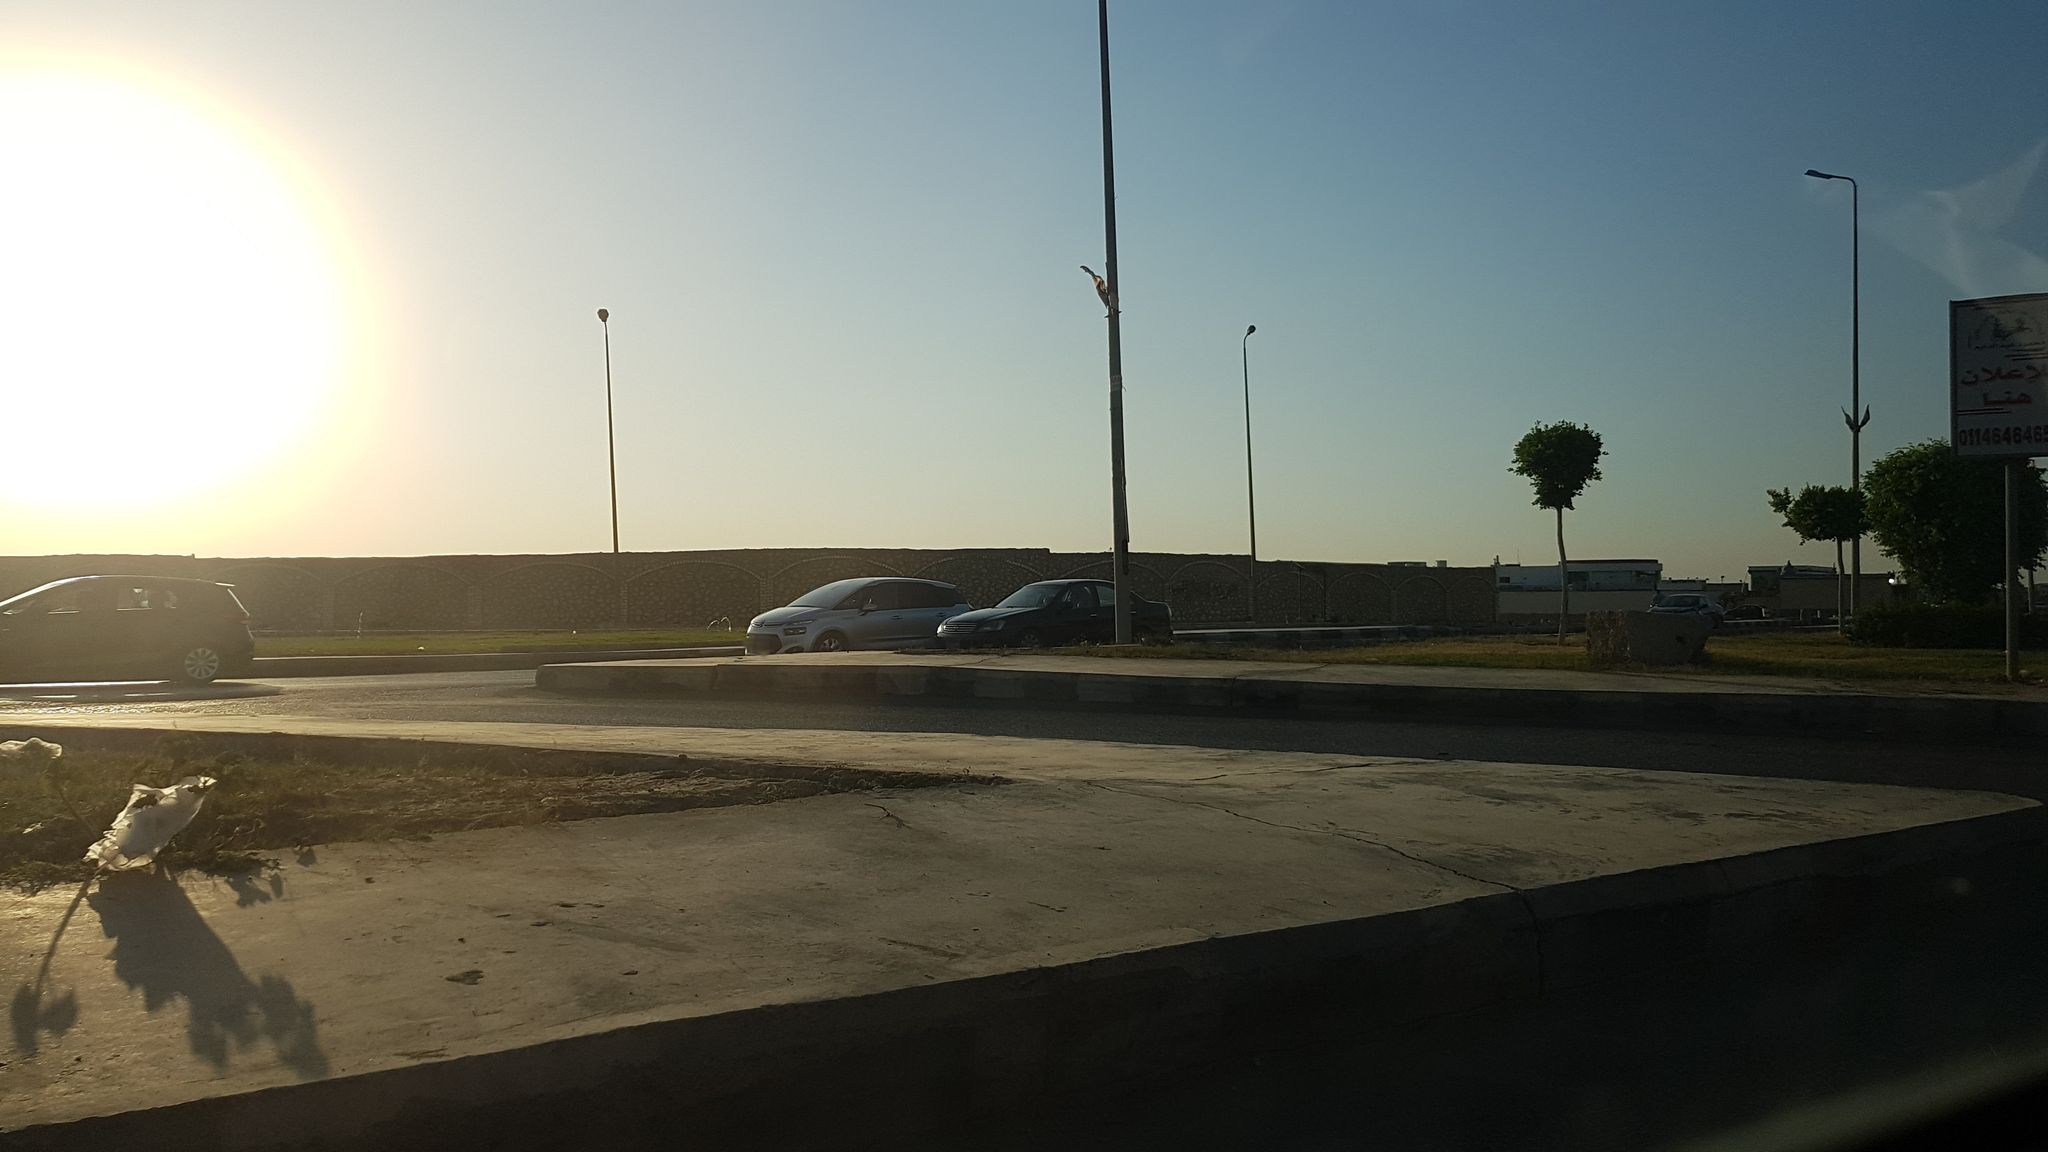car: (0, 574, 255, 684), (743, 577, 978, 655), (935, 577, 1175, 650), (1646, 594, 1724, 622), (1727, 603, 1767, 617)
